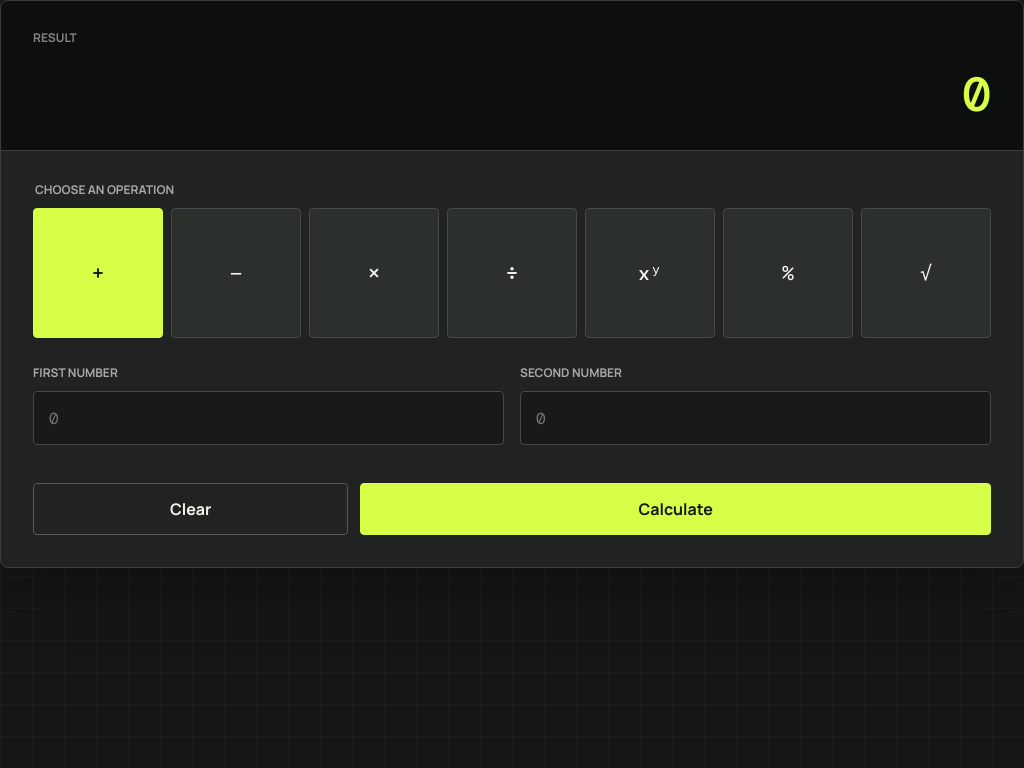
Test: Calculator › validates required operands
Click the button "Calculate": (676, 509) [360,483,991,535]
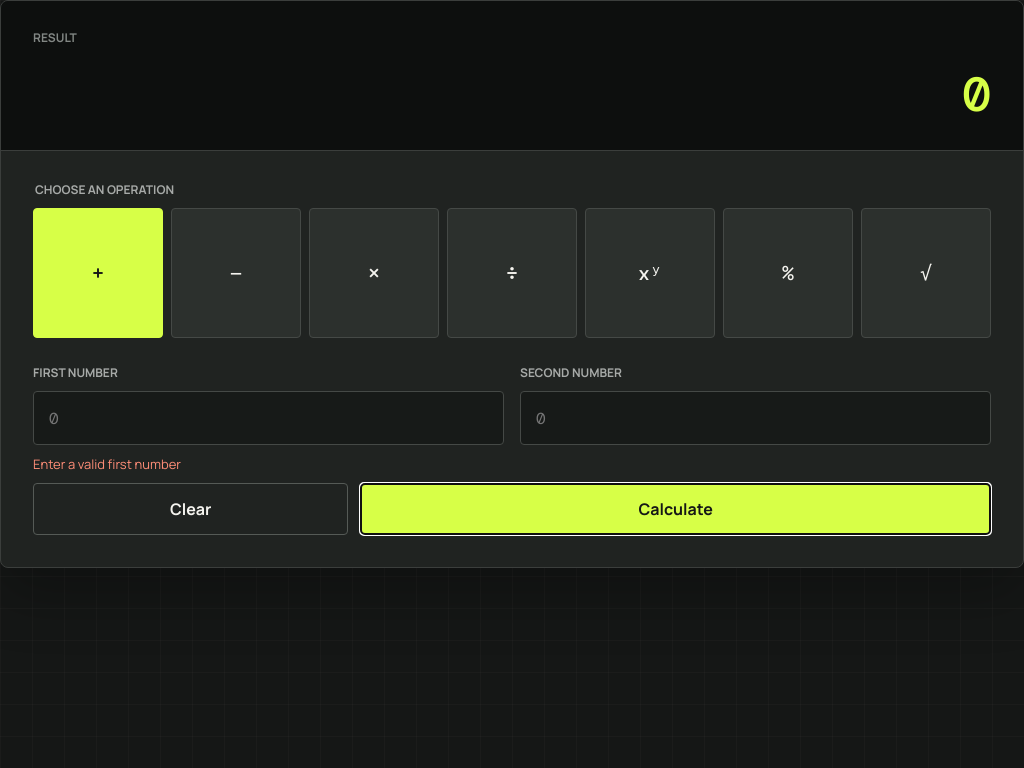
expect the message reads "Enter a valid first number": met, box [33,455,181,473]
